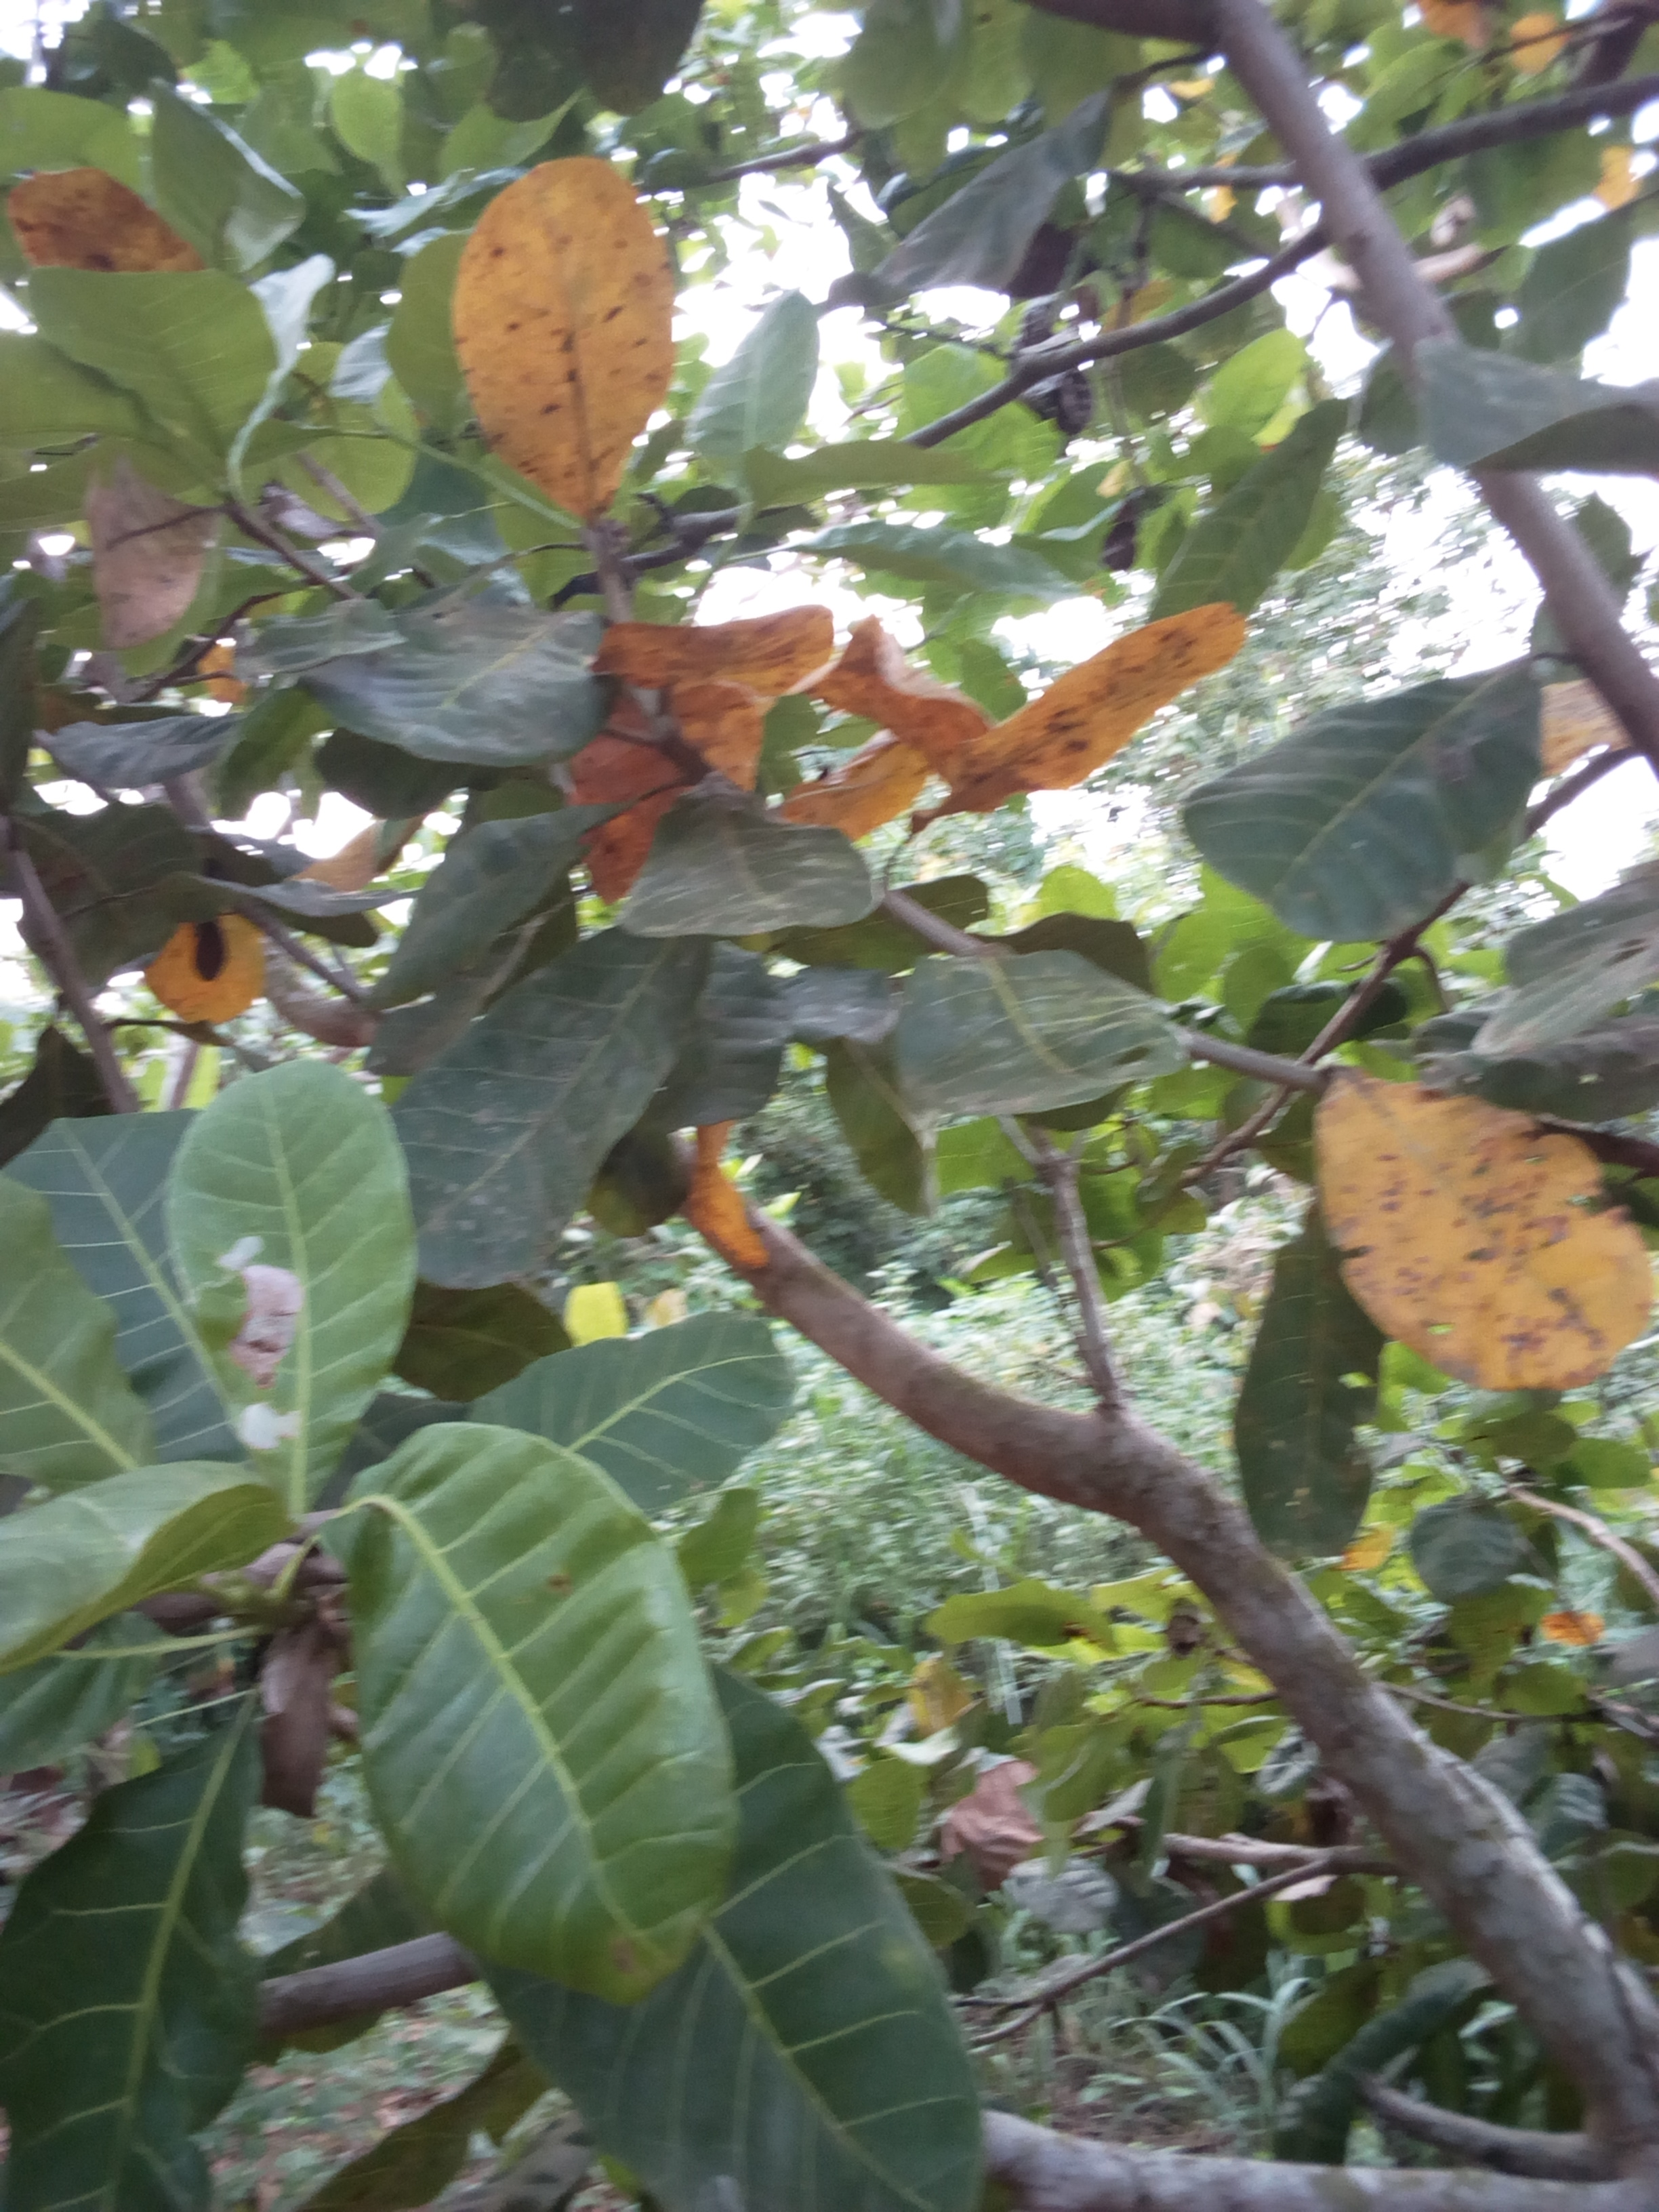Anthracnose: (1317, 1078, 1650, 1397), (457, 153, 676, 516), (927, 594, 1246, 812), (64, 458, 216, 636)
